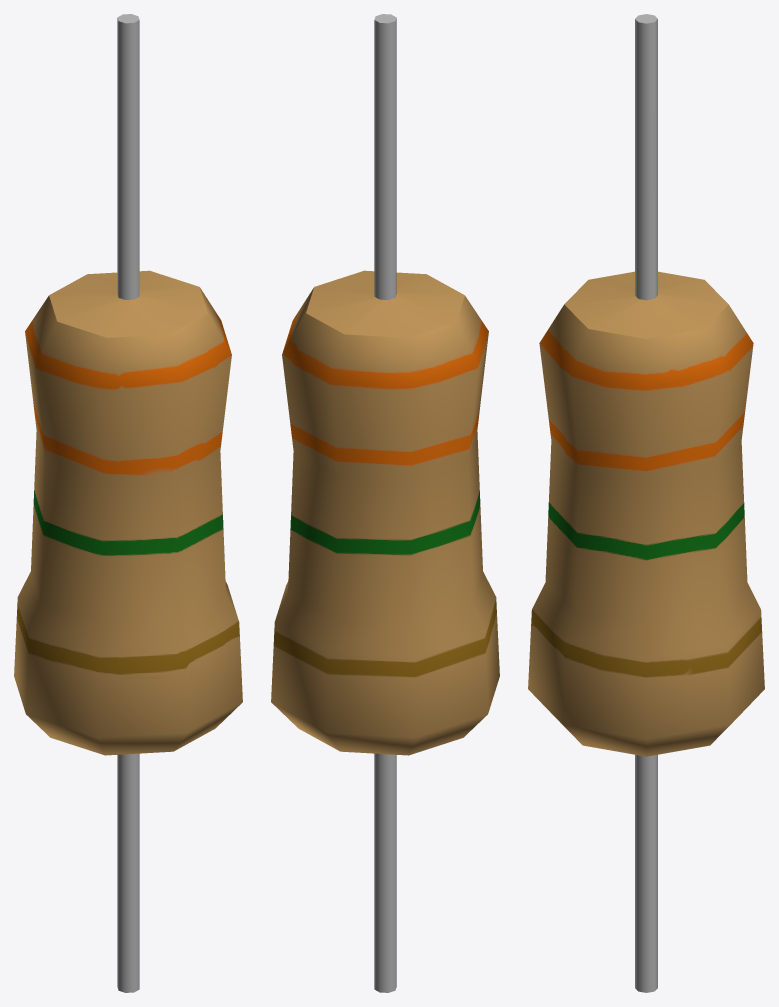
The model's file is resistor.fbx.
3 views of the same model, side by side, from view 1: azimuth 30°, elevation 25°; view 2: azimuth 150°, elevation 25°; view 3: azimuth 270°, elevation 25° (orthographic).
Parts seen in each view (by area): view 1: revolvedSurface1, pCylinder6; view 2: revolvedSurface1, pCylinder6; view 3: revolvedSurface1, pCylinder6.
Boxes of the visible parts, x1,y1,x2,y2 form: revolvedSurface1: (14,270,242,755); pCylinder6: (117,14,139,992); revolvedSurface1: (271,270,499,755); pCylinder6: (374,14,396,992); revolvedSurface1: (528,271,764,756); pCylinder6: (635,14,657,992).
Size of the model in its own units: 10.84 by 48.95 by 10.84.
1 material, 1 textured.
